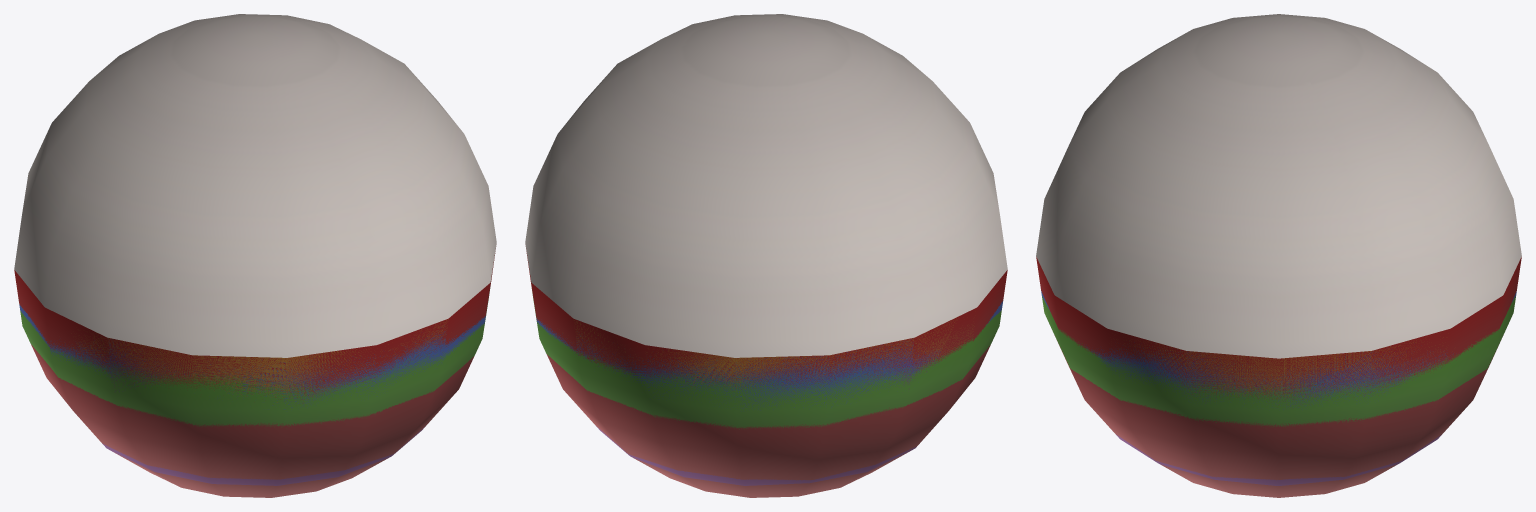
The model's file is highyuan_niudan_Geo_Grp.fbx.
3 views of the same model, side by side, from view 1: azimuth 30°, elevation 25°; view 2: azimuth 150°, elevation 25°; view 3: azimuth 270°, elevation 25° (orthographic).
Parts seen in each view (by area): view 1: gaiyuan_niudan_Geo, hongyuan_niudan_Geo, lvyuan_niudan_Geo, huangyuan_niudan_Geo, lanyuan_niudan_Geo, ziyuan_niudan_Geo; view 2: gaiyuan_niudan_Geo, hongyuan_niudan_Geo, lvyuan_niudan_Geo, lanyuan_niudan_Geo, huangyuan_niudan_Geo, ziyuan_niudan_Geo; view 3: gaiyuan_niudan_Geo, hongyuan_niudan_Geo, lvyuan_niudan_Geo, lanyuan_niudan_Geo, huangyuan_niudan_Geo, ziyuan_niudan_Geo.
Part boxes in pixels (x1,y1,x2,y2): gaiyuan_niudan_Geo: [14, 14, 496, 357]; hongyuan_niudan_Geo: [14, 251, 495, 497]; lvyuan_niudan_Geo: [20, 288, 490, 427]; huangyuan_niudan_Geo: [64, 319, 448, 402]; lanyuan_niudan_Geo: [19, 304, 485, 409]; ziyuan_niudan_Geo: [102, 341, 426, 485]; gaiyuan_niudan_Geo: [525, 14, 1007, 357]; hongyuan_niudan_Geo: [526, 251, 1007, 497]; lvyuan_niudan_Geo: [531, 288, 1001, 429]; lanyuan_niudan_Geo: [536, 301, 1002, 411]; huangyuan_niudan_Geo: [556, 320, 974, 388]; ziyuan_niudan_Geo: [596, 341, 940, 485]; gaiyuan_niudan_Geo: [1036, 14, 1521, 358]; hongyuan_niudan_Geo: [1036, 257, 1521, 497]; lvyuan_niudan_Geo: [1042, 296, 1515, 427]; lanyuan_niudan_Geo: [1041, 291, 1516, 409]; huangyuan_niudan_Geo: [1116, 337, 1447, 399]; ziyuan_niudan_Geo: [1111, 351, 1441, 485].
Size of the model in its own units: 16.71 by 16.71 by 16.71.
1 material, 1 textured.
